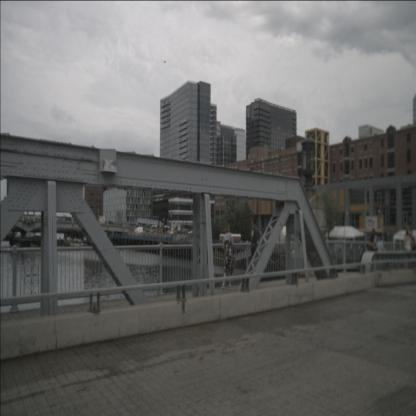human-pedestrian-adult: (221, 221, 235, 290), (250, 216, 263, 277), (372, 233, 384, 272), (367, 228, 377, 268)
